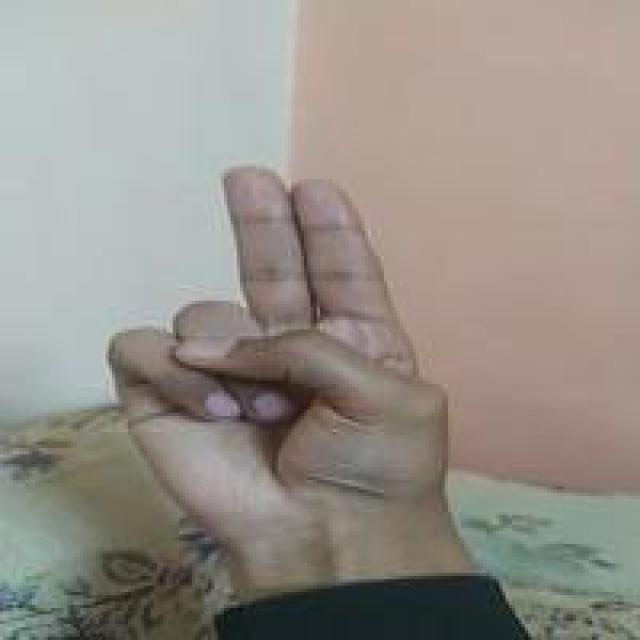U: (102, 152, 458, 536)
